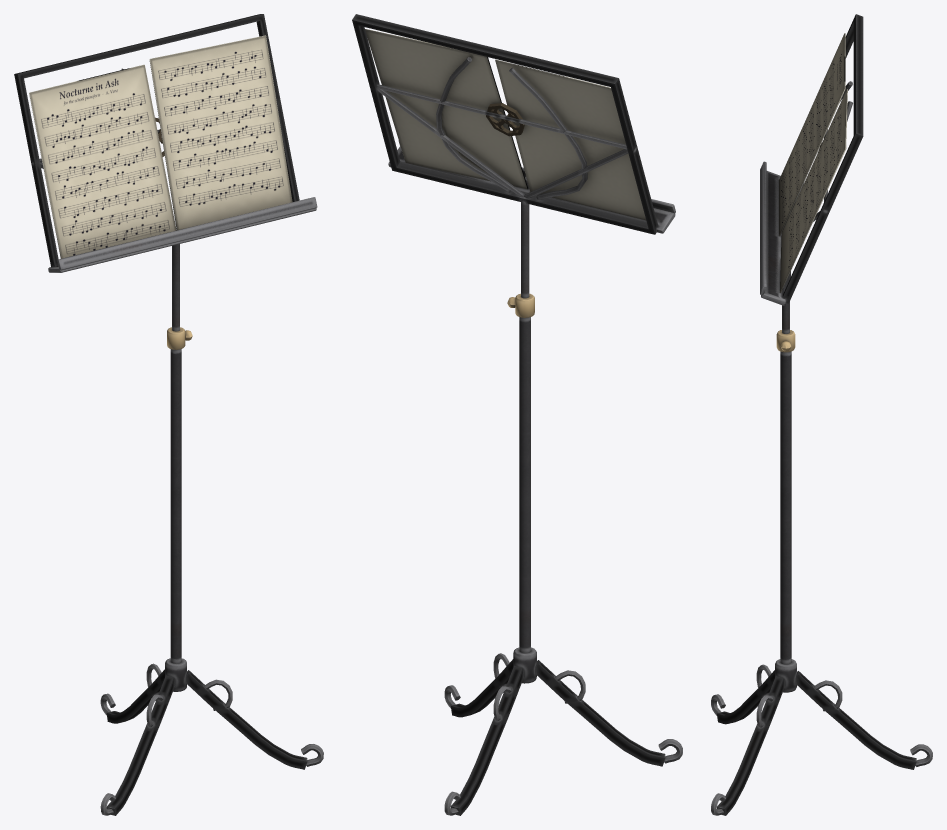
The model's file is MusicStand.fbx.
The picture shows the model from 3 angles, left to right: view 1: azimuth 30°, elevation 25°; view 2: azimuth 150°, elevation 25°; view 3: azimuth 270°, elevation 25°; orthographic projection. The views are drawn at different scales.
Visible parts, largest first — view 1: MusicStand; view 2: MusicStand; view 3: MusicStand.
Boxes of the visible parts, left/top/right/bottom form: MusicStand: left=14, top=14, right=323, bottom=815; MusicStand: left=352, top=14, right=682, bottom=815; MusicStand: left=711, top=14, right=932, bottom=815.
Size of the model in its own units: 160 by 415 by 120.
